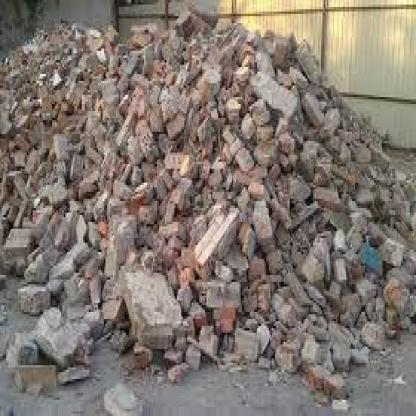brick: (1, 2, 415, 411)
